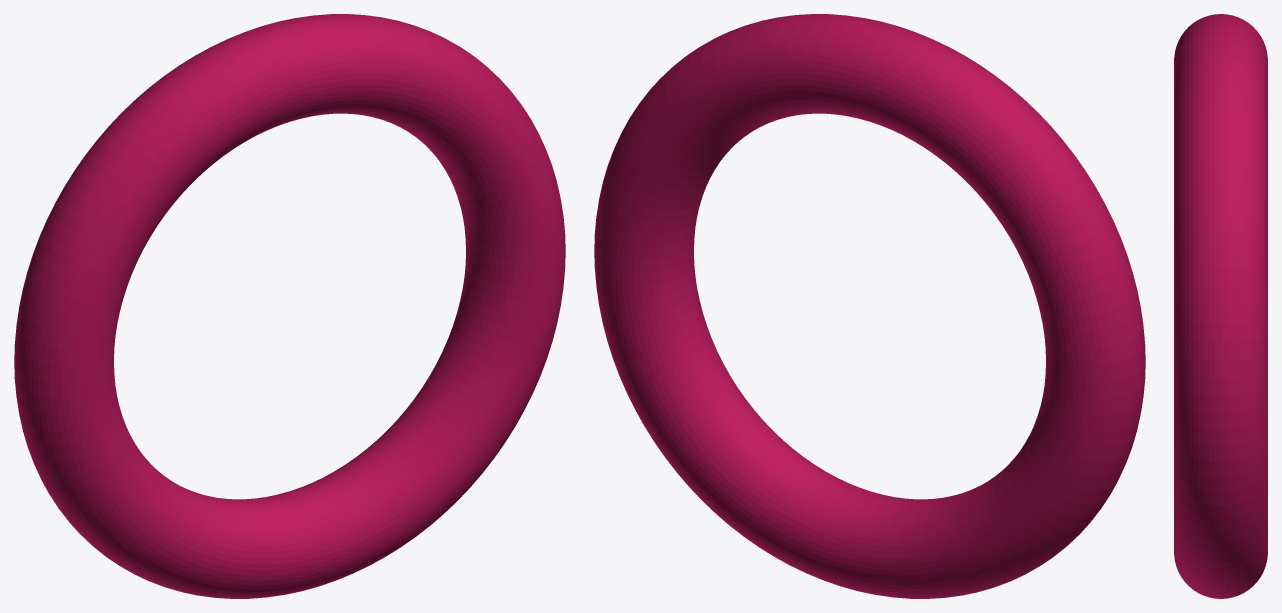
3 views of the same model, side by side, from view 1: azimuth 30°, elevation 25°; view 2: azimuth 150°, elevation 25°; view 3: azimuth 270°, elevation 25° (orthographic). The views are drawn at different scales.
Visible parts, largest first — view 1: world; view 2: world; view 3: world.
Boxes of the visible parts, x1=… form: world: x1=14, y1=14, x2=565, y2=598; world: x1=594, y1=14, x2=1145, y2=598; world: x1=1174, y1=14, x2=1267, y2=598.
Bounding box in the file's own units: 35.73 × 35.73 × 5.72.
